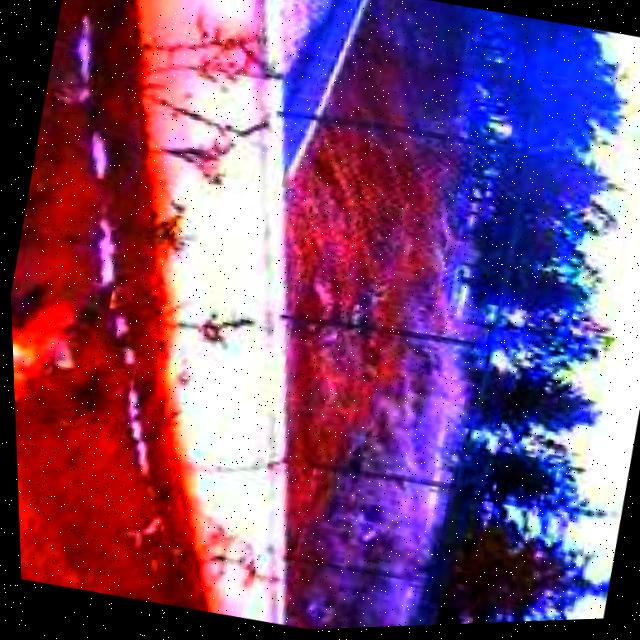Fire: (9, 296, 88, 470)
